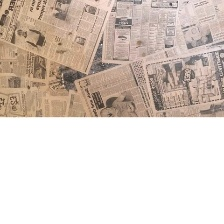news_paper: (0, 0, 115, 76), (73, 44, 184, 118), (140, 45, 224, 119), (97, 0, 177, 67), (0, 35, 54, 90), (174, 0, 223, 58), (0, 84, 68, 117), (63, 85, 98, 118)
